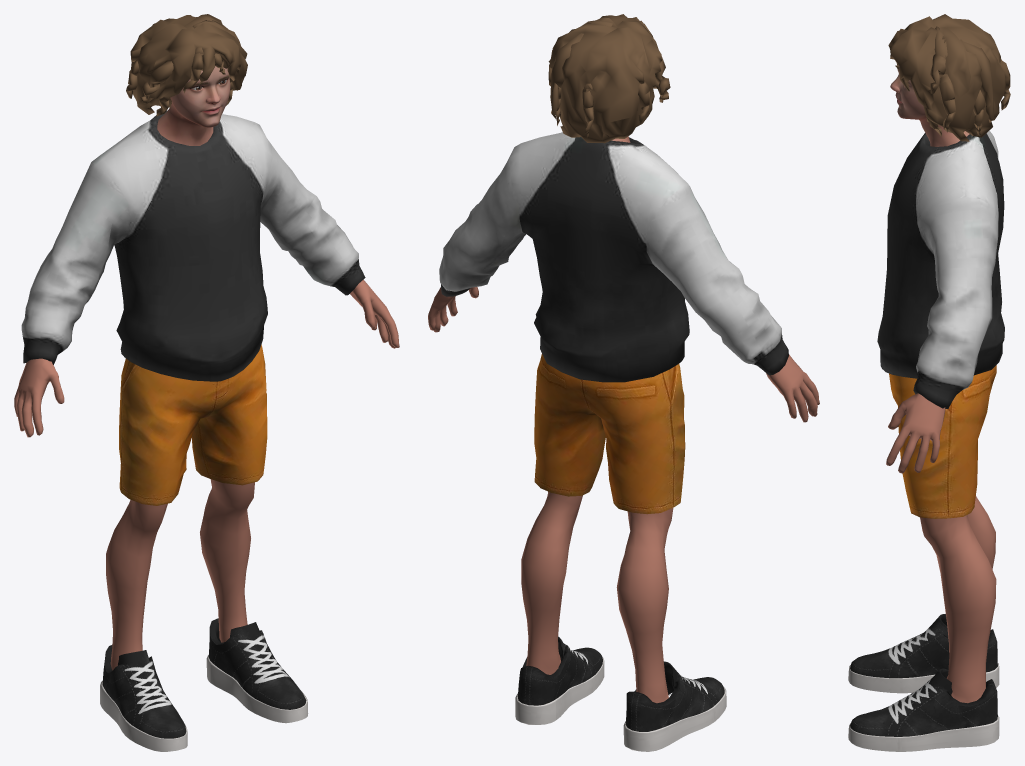
File: dustin.glb
The picture shows the model from 3 angles, left to right: view 1: azimuth 30°, elevation 25°; view 2: azimuth 150°, elevation 25°; view 3: azimuth 270°, elevation 25°; orthographic projection.
Visible parts, largest first — view 1: Object_21, Object_17, Object_15, Object_19, Object_23, Object_11; view 2: Object_21, Object_17, Object_15, Object_23, Object_19; view 3: Object_21, Object_19, Object_15, Object_23, Object_17, Object_11.
Boxes of the visible parts, bbox=[...] form: Object_21: bbox=[21, 110, 365, 381]; Object_17: bbox=[119, 344, 267, 505]; Object_15: bbox=[14, 280, 399, 670]; Object_19: bbox=[100, 618, 308, 751]; Object_23: bbox=[126, 14, 247, 116]; Object_11: bbox=[157, 66, 230, 145]; Object_21: bbox=[439, 132, 788, 382]; Object_17: bbox=[534, 354, 685, 514]; Object_15: bbox=[428, 287, 819, 703]; Object_23: bbox=[548, 14, 670, 143]; Object_19: bbox=[515, 636, 726, 751]; Object_21: bbox=[877, 130, 1004, 408]; Object_19: bbox=[848, 614, 999, 751]; Object_15: bbox=[886, 393, 996, 703]; Object_23: bbox=[888, 14, 1010, 141]; Object_17: bbox=[889, 365, 996, 518]; Object_11: bbox=[890, 67, 969, 146].
Size of the model in its own units: 1.06 by 1.86 by 0.3987.
Materials: 8 (8 with a texture image).
